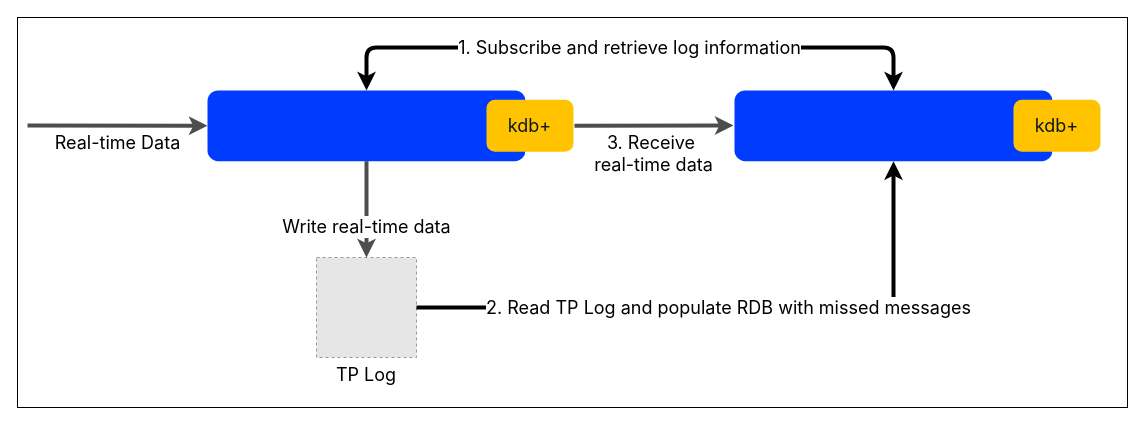
The diagram is 1145 pixels wide and 433 high, and some of its shapes have lost their labels. Grey dashed boxes stand in for pictures. Here are the shapes that lost their labels. From the top down, the centre of each, then its label:
point 366,125: TP (Tickerplant)
point 893,125: RDB (Real-time Database)
